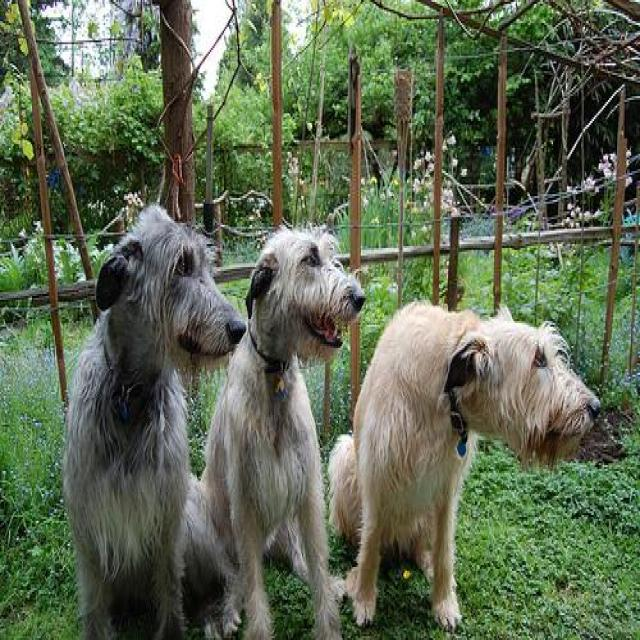irish_wolfhound: (325, 298, 603, 634), (62, 204, 246, 638), (200, 223, 364, 636)
